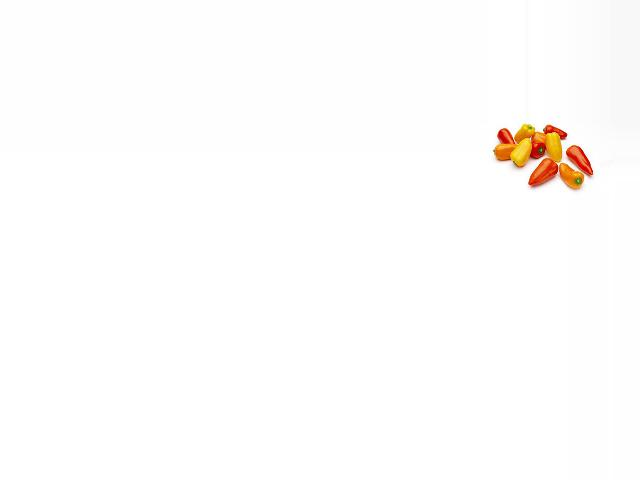bell_pepper: (541, 123, 570, 137)
